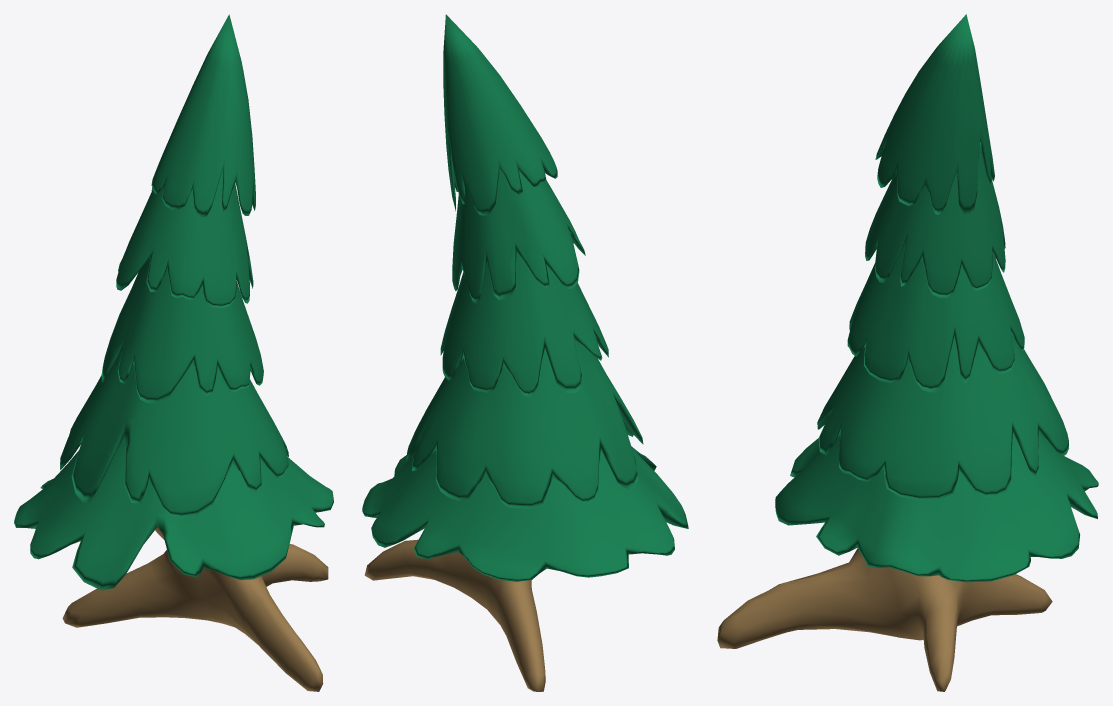
The model's file is Pinetree1.fbx.
3 renders of one model, left to right at view 1: azimuth 30°, elevation 25°; view 2: azimuth 150°, elevation 25°; view 3: azimuth 270°, elevation 25°, orthographic. The views are drawn at different scales.
Visible parts, largest first — view 1: Gran; view 2: Gran; view 3: Gran.
Boxes of the visible parts, bbox=[...] form: Gran: bbox=[14, 14, 333, 691]; Gran: bbox=[362, 14, 688, 691]; Gran: bbox=[717, 14, 1098, 691].
Bounding box in the file's own units: 2.09 × 4.09 × 2.13.
